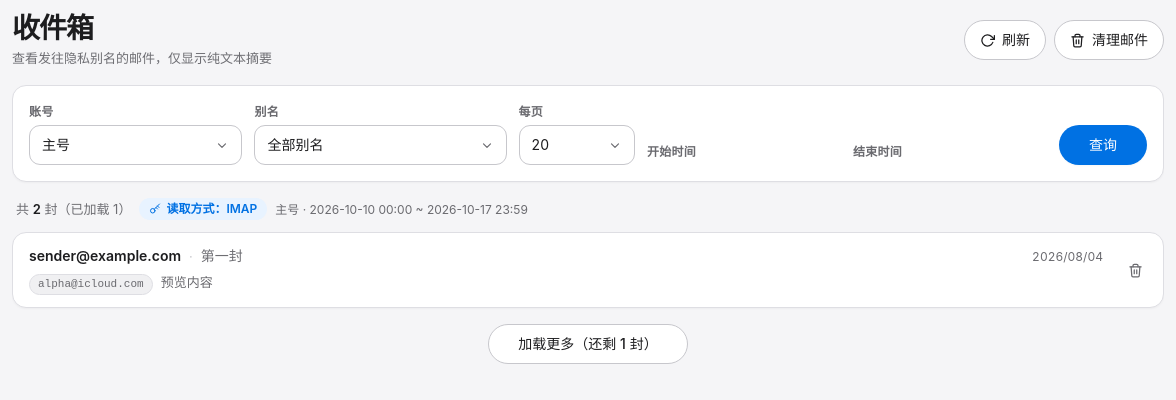
InboxPage › 加载更多同样携带 refresh=1, 保证分页边界与最新数据一致
expect the text "第一封" is shown: met, box [201,245,243,268]
Step 1. Click the button "加载更多（还剩 1 封）" → (588, 344), box [488,324,688,364]
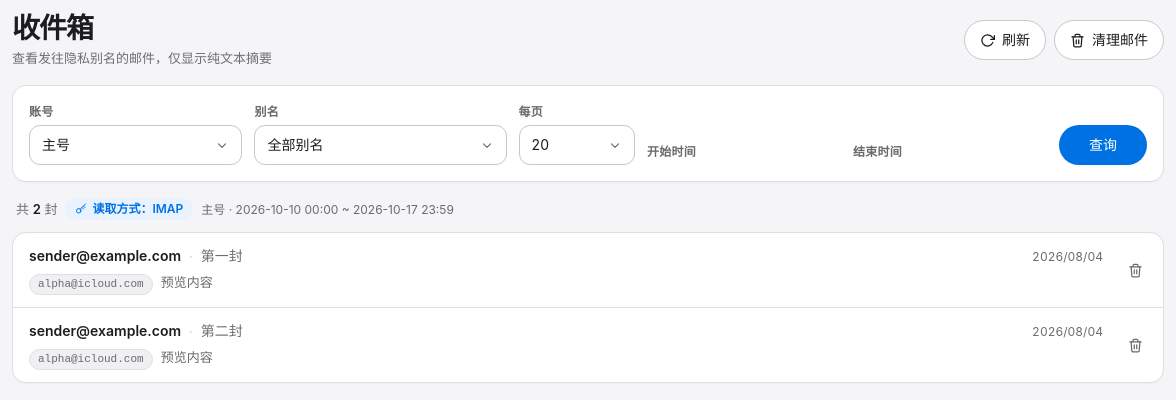
expect the text "第二封" is shown: met, box [201,320,243,343]
